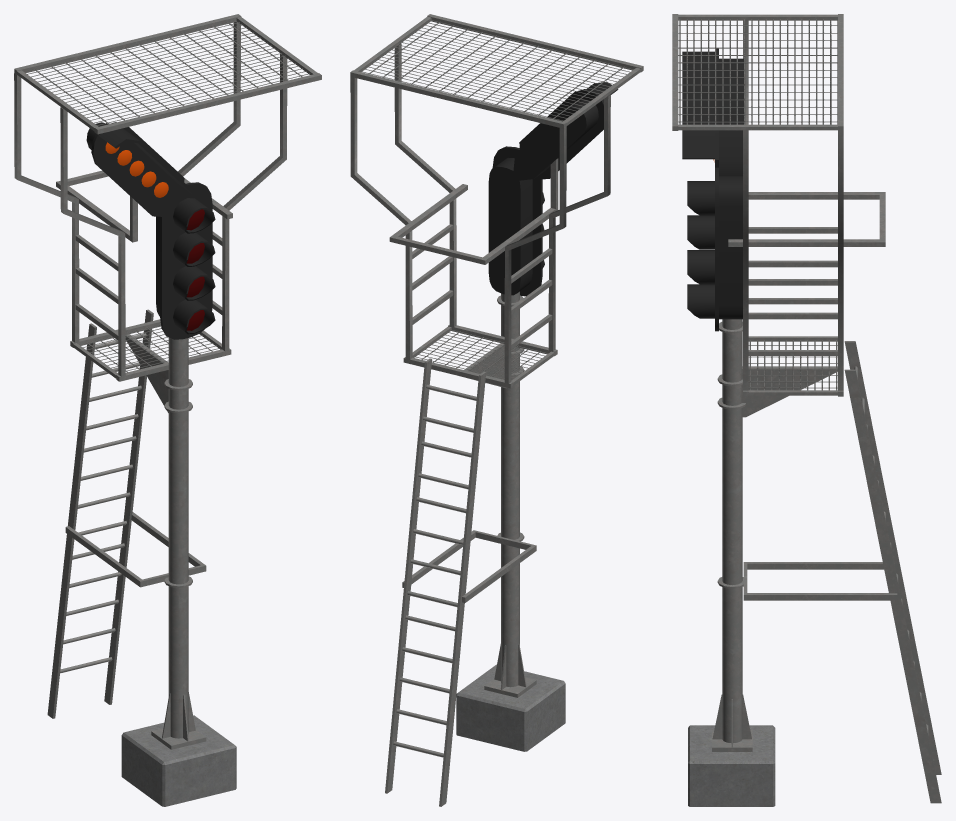
File: rail_signalgantry_sml_C.fbx
3 views of the same model, side by side, from view 1: azimuth 30°, elevation 25°; view 2: azimuth 150°, elevation 25°; view 3: azimuth 270°, elevation 25° (orthographic). The views are drawn at different scales.
Parts seen in each view (by area): view 1: rail_signalgantry_sml_C; view 2: rail_signalgantry_sml_C; view 3: rail_signalgantry_sml_C.
Boxes of the visible parts, box(x1,y1,x2,y2) form: rail_signalgantry_sml_C: box(14, 14, 321, 806); rail_signalgantry_sml_C: box(350, 14, 643, 806); rail_signalgantry_sml_C: box(672, 14, 941, 806).
Bounding box in the file's own units: 2.15 × 6.41 × 2.17.
